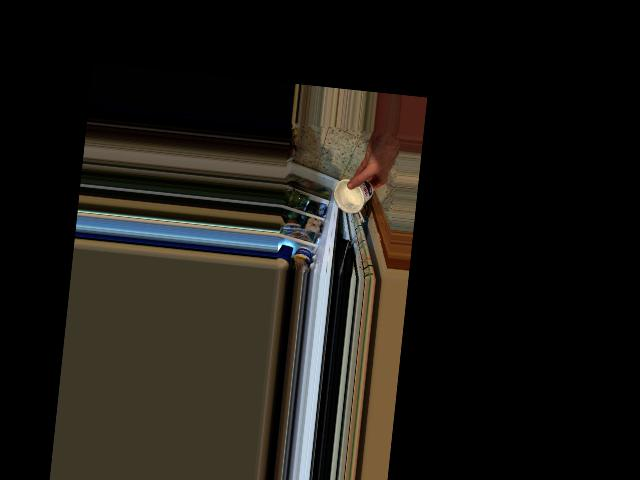cotage: (332, 173, 377, 217)
